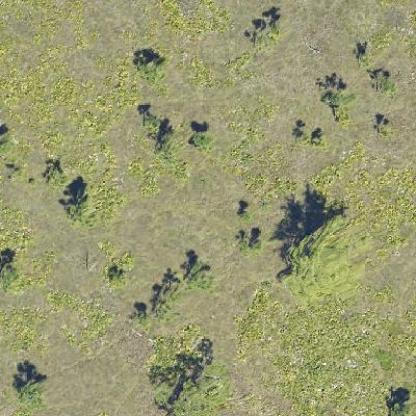tree-top: (284, 224, 364, 300), (161, 376, 231, 413), (0, 258, 31, 293), (134, 53, 164, 82), (184, 263, 212, 293), (63, 197, 94, 224), (152, 131, 179, 162), (14, 380, 42, 404), (194, 132, 218, 154)
